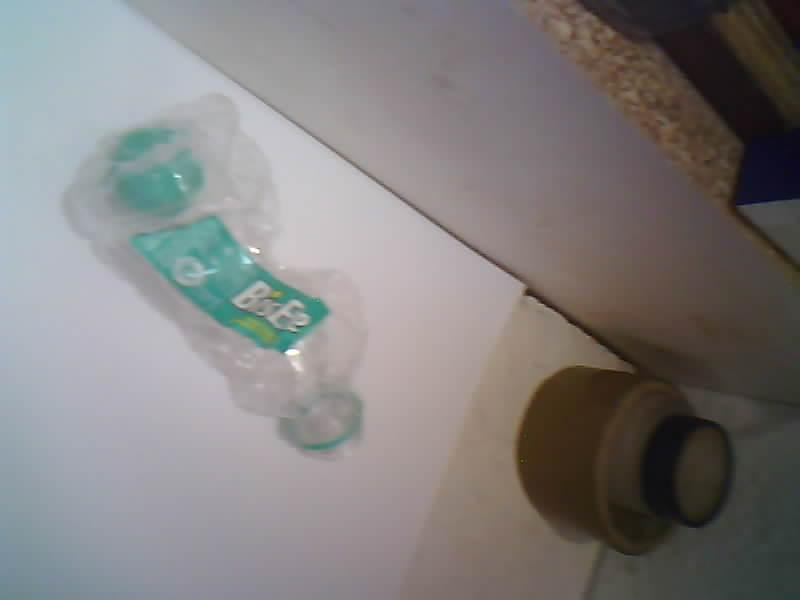non-biodegradable: (65, 95, 365, 454)
